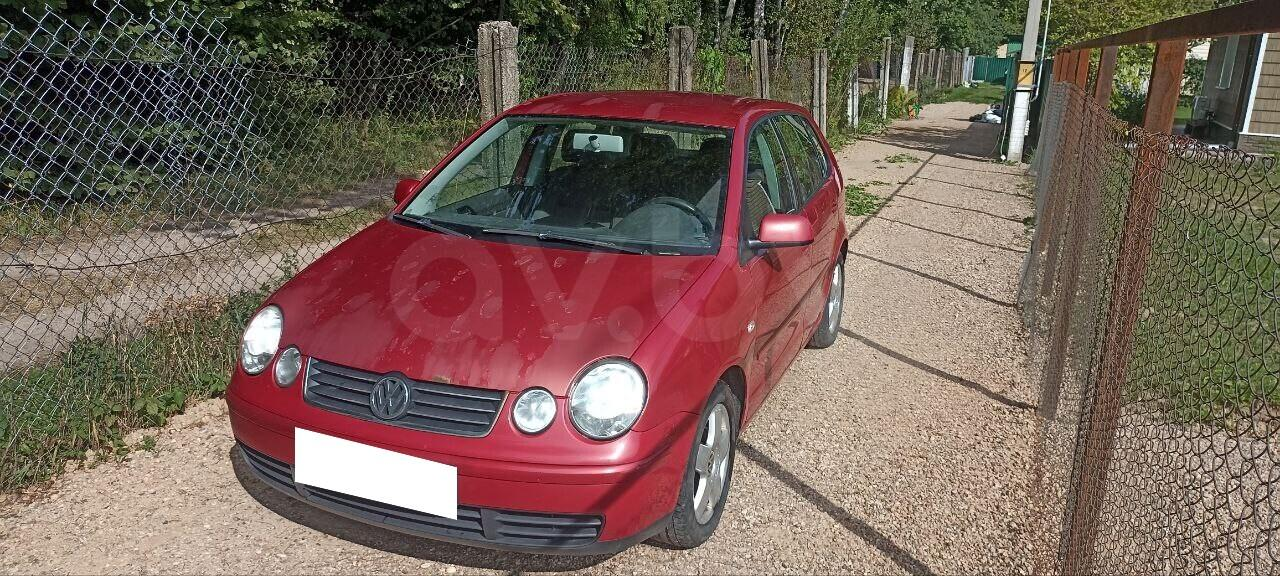Volswagen_Polo_2001_2003_2800: (223, 87, 856, 555)
